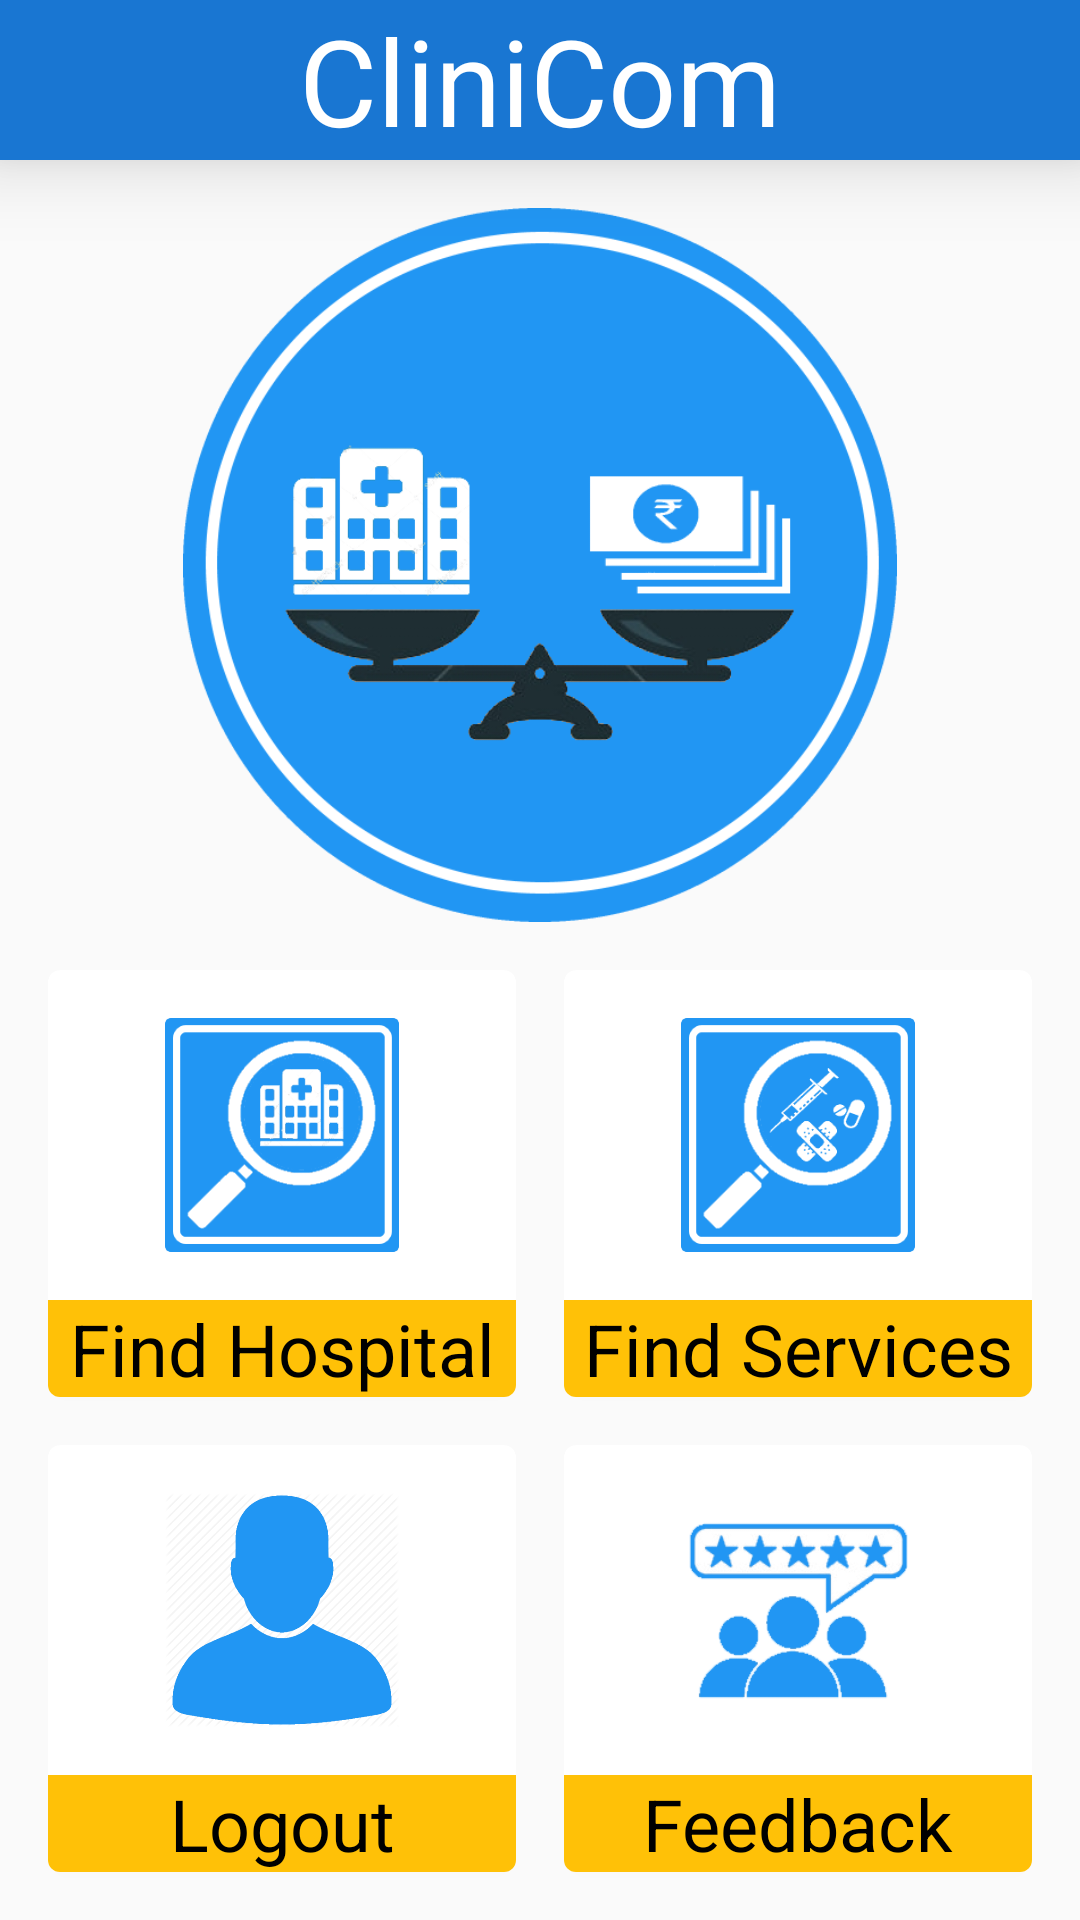

Locate icon controls on the screen. Image size 1080px×1920px, boxes as [x1=x1, y1=y1, x2=x2, y2=y2].
profile: [x1=172, y1=1495, x2=392, y2=1725]
search hospital: [x1=165, y1=1018, x2=399, y2=1252]
search services: [x1=681, y1=1018, x2=915, y2=1252]
